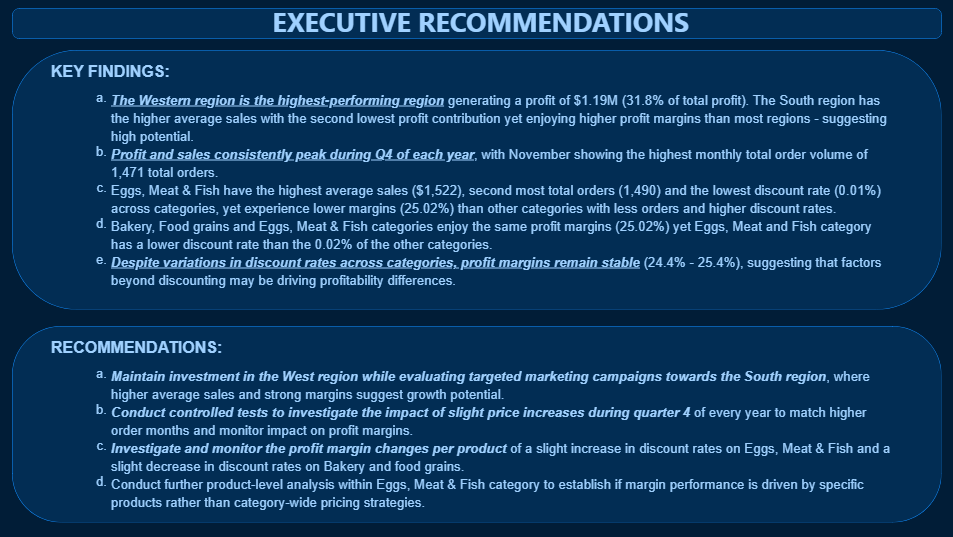

This screenshot's page, from the dashboard's own definition file:
{"tool":"powerbi","page":{"name":"Executive Reccommendations","canvas":[1920,1080],"ordinal":4},"visuals":[{"type":"shape","box":[36,16,1860,62],"z":0},{"type":"textbox","box":[77.1,5.3,1790.7,78.8],"z":1000},{"type":"shape","box":[35.9,100.8,1859.2,519.5],"z":2000},{"type":"shape","box":[35.9,652.8,1859.2,393],"z":3000},{"type":"textbox","box":[114.5,123,1690.1,473.4],"z":4000},{"type":"textbox","box":[114.5,675,1690.1,355.4],"z":5000}]}

Visuals, with their boxes in screenshot pixels (x1, y1, x2, y2), scaled from the page's 1920x1080 canvas onto the 953x537 screenshot:
shape: {"x1": 18, "y1": 8, "x2": 941, "y2": 39}
textbox: {"x1": 38, "y1": 3, "x2": 927, "y2": 42}
shape: {"x1": 18, "y1": 50, "x2": 941, "y2": 308}
shape: {"x1": 18, "y1": 325, "x2": 941, "y2": 520}
textbox: {"x1": 57, "y1": 61, "x2": 896, "y2": 297}
textbox: {"x1": 57, "y1": 336, "x2": 896, "y2": 512}
